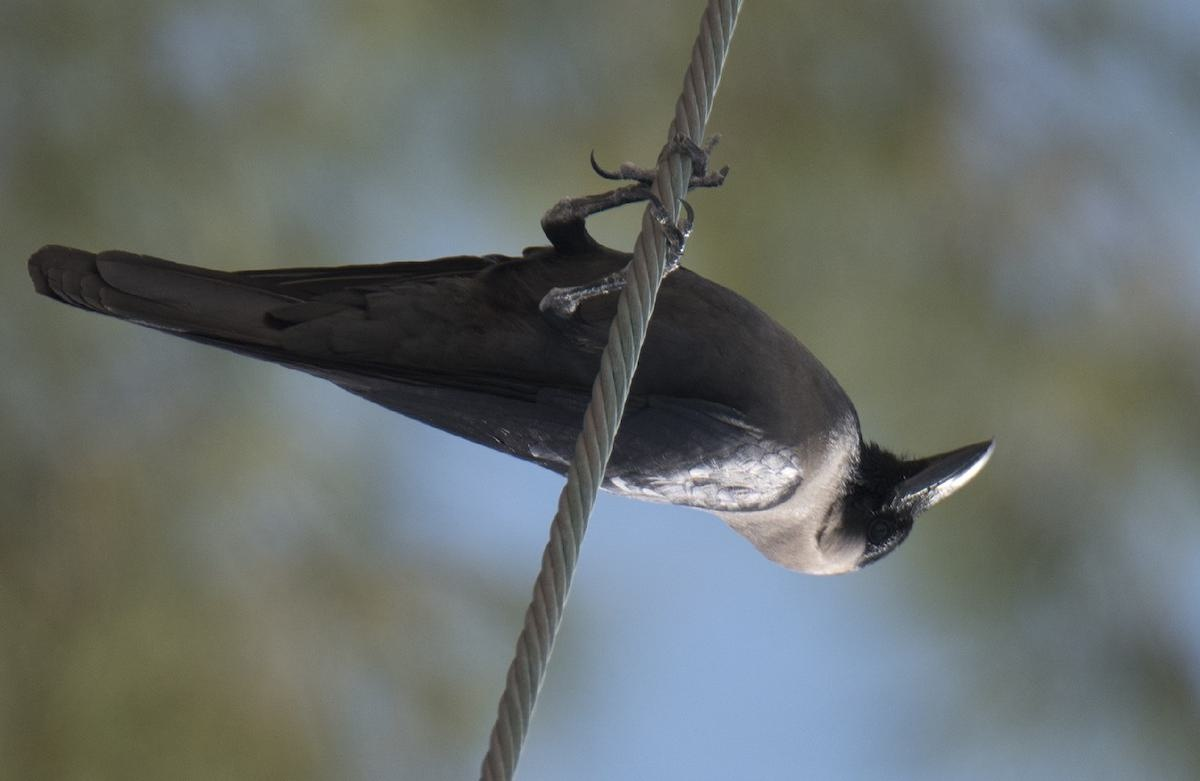crow: (1, 141, 1001, 586)
